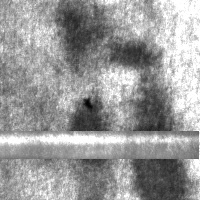patches: (122, 75, 193, 200), (55, 1, 107, 75), (64, 98, 115, 166), (108, 40, 161, 71)
scratches: (0, 131, 199, 159)
